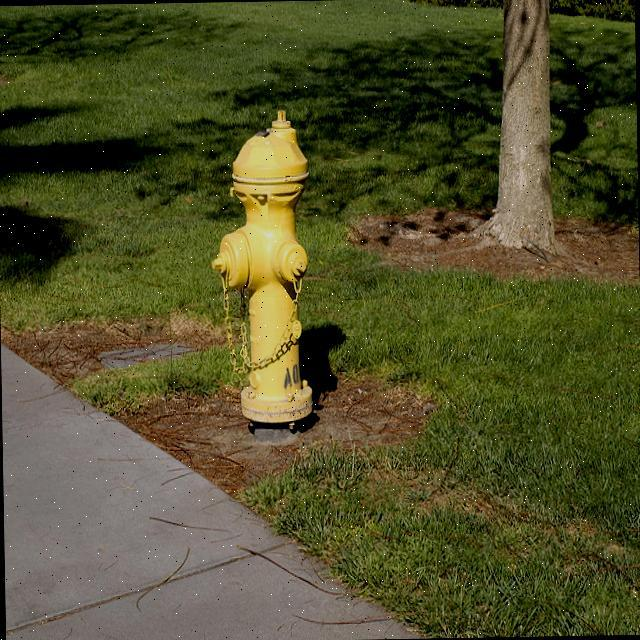fire_hydrant: (202, 107, 313, 390)
